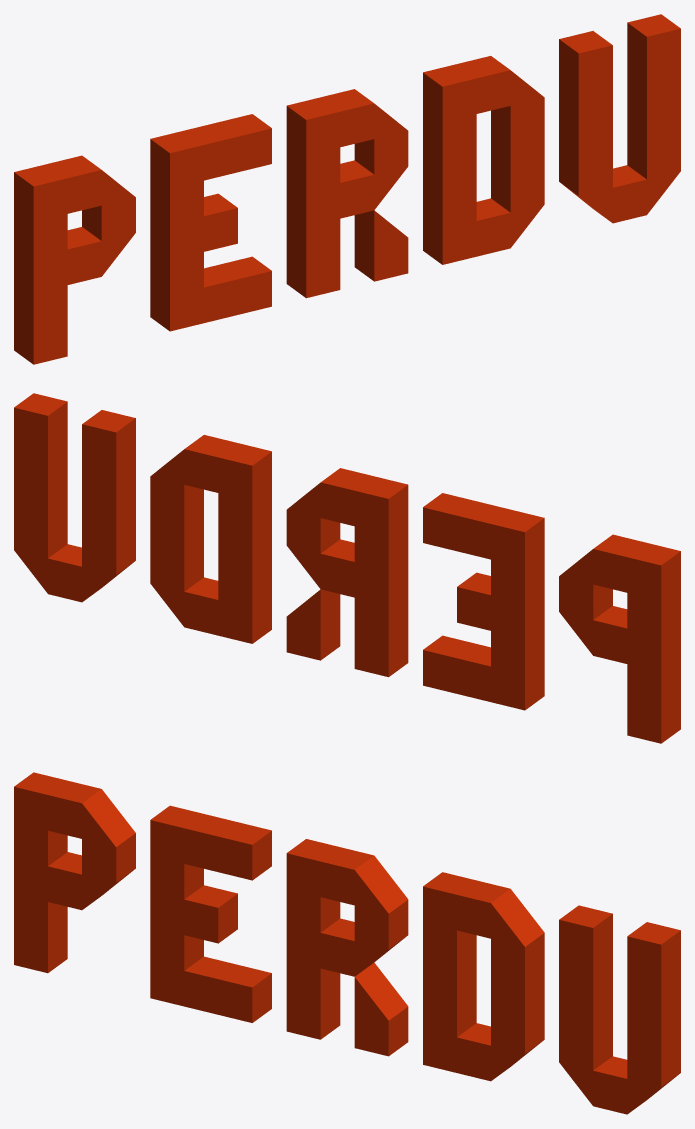
The model's file is perdu.obj.
3 views of the same model, one above another, from view 1: azimuth 30°, elevation 25°; view 2: azimuth 150°, elevation 25°; view 3: azimuth 330°, elevation 25° (orthographic).
Parts seen in each view (by area): view 1: Cube.003, Cube.002, Cube.004, Cube.001, Cube; view 2: Cube.003, Cube.002, Cube.004, Cube.001, Cube; view 3: Cube.002, Cube.003, Cube.004, Cube.001, Cube.
Boxes of the visible parts, x1,y1,x2,y2 form: Cube.003: [423, 56, 544, 264]; Cube.002: [286, 89, 408, 298]; Cube.004: [559, 14, 680, 223]; Cube.001: [150, 114, 271, 331]; Cube: [14, 155, 135, 364]; Cube.003: [150, 435, 271, 643]; Cube.002: [286, 468, 408, 677]; Cube.004: [14, 393, 135, 602]; Cube.001: [423, 493, 544, 710]; Cube: [559, 534, 680, 743]; Cube.002: [286, 839, 408, 1056]; Cube.003: [423, 872, 544, 1081]; Cube.004: [559, 905, 680, 1114]; Cube.001: [150, 805, 271, 1022]; Cube: [14, 772, 135, 973].
Bounding box in the file's own units: 19 × 5 × 1.
